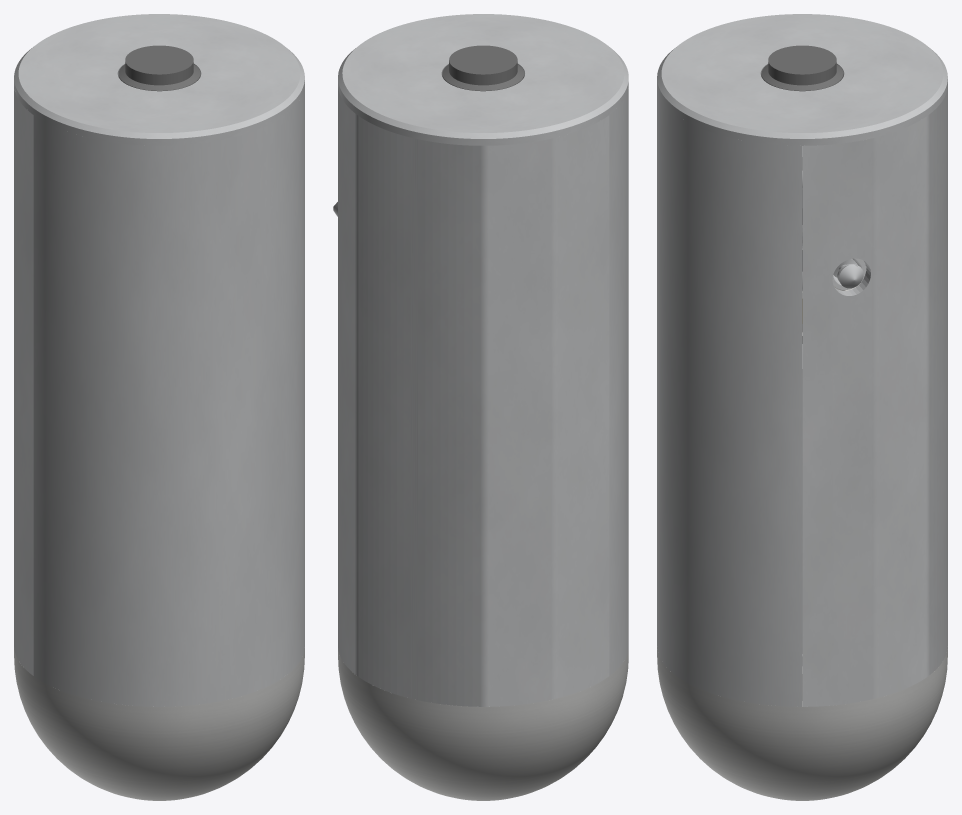
Rendered from ds2-forebody.glb.
3 renders of one model, left to right at view 1: azimuth 30°, elevation 25°; view 2: azimuth 150°, elevation 25°; view 3: azimuth 270°, elevation 25°, orthographic.
Parts seen in each view (by area): view 1: FB_SHELL_FRONT_shell, FB_AFT_CAP_cap, FB_NOSE_nose, FB_SHELL_BACK_shell, FOREBODY_TETHER_receptacle; view 2: FB_SHELL_BACK_shell, FB_AFT_CAP_cap, FB_NOSE_nose, FB_SHELL_FRONT_shell, FOREBODY_TETHER_receptacle; view 3: FB_SHELL_FRONT_shell, FB_SHELL_BACK_shell, FB_AFT_CAP_cap, FB_NOSE_nose, FOREBODY_TETHER_receptacle.
Part boxes in pixels (x1,y1,x2,y2): FB_SHELL_FRONT_shell: (33,87,304,706); FB_AFT_CAP_cap: (14,14,304,145); FB_NOSE_nose: (14,647,304,800); FB_SHELL_BACK_shell: (14,86,33,675); FOREBODY_TETHER_receptacle: (118,45,200,91); FB_SHELL_BACK_shell: (338,87,609,706); FB_AFT_CAP_cap: (338,14,628,145); FB_NOSE_nose: (338,648,628,800); FB_SHELL_FRONT_shell: (609,88,628,675); FOREBODY_TETHER_receptacle: (442,45,524,91); FB_SHELL_FRONT_shell: (657,86,802,706); FB_SHELL_BACK_shell: (802,86,947,706); FB_AFT_CAP_cap: (657,14,947,145); FB_NOSE_nose: (657,647,947,800); FOREBODY_TETHER_receptacle: (761,45,843,91).
Bounding box in the file's own units: 0.039 × 0.1076 × 0.039.
Materials: 26 (12 with a texture image).
